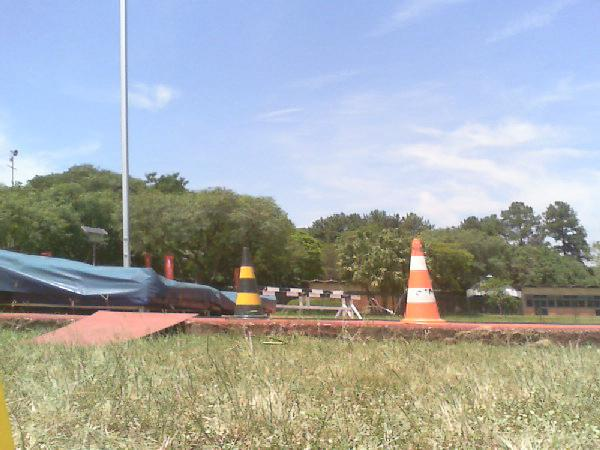0 cone: (399, 236, 446, 324), (222, 247, 268, 318)
